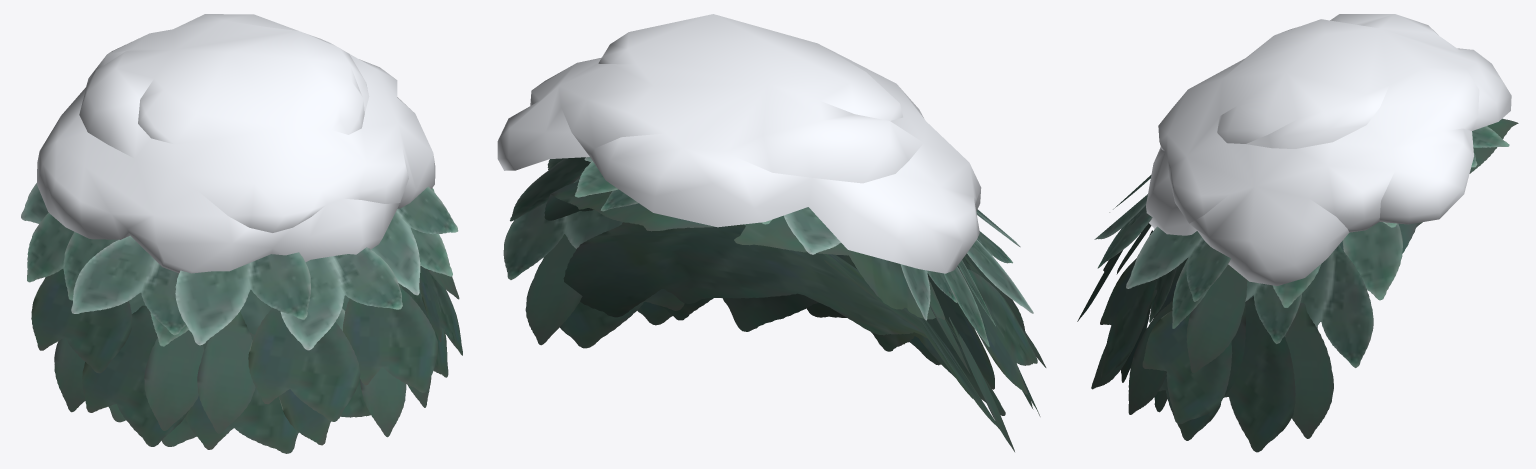
Rendered from yellow-tea-olive-winter.glb.
3 renders of one model, left to right at view 1: azimuth 30°, elevation 25°; view 2: azimuth 150°, elevation 25°; view 3: azimuth 270°, elevation 25°, orthographic. The views are drawn at different scales.
Size of the model in its own units: 10.61 by 8.24 by 9.85.
Materials: 2 (1 with a texture image).
